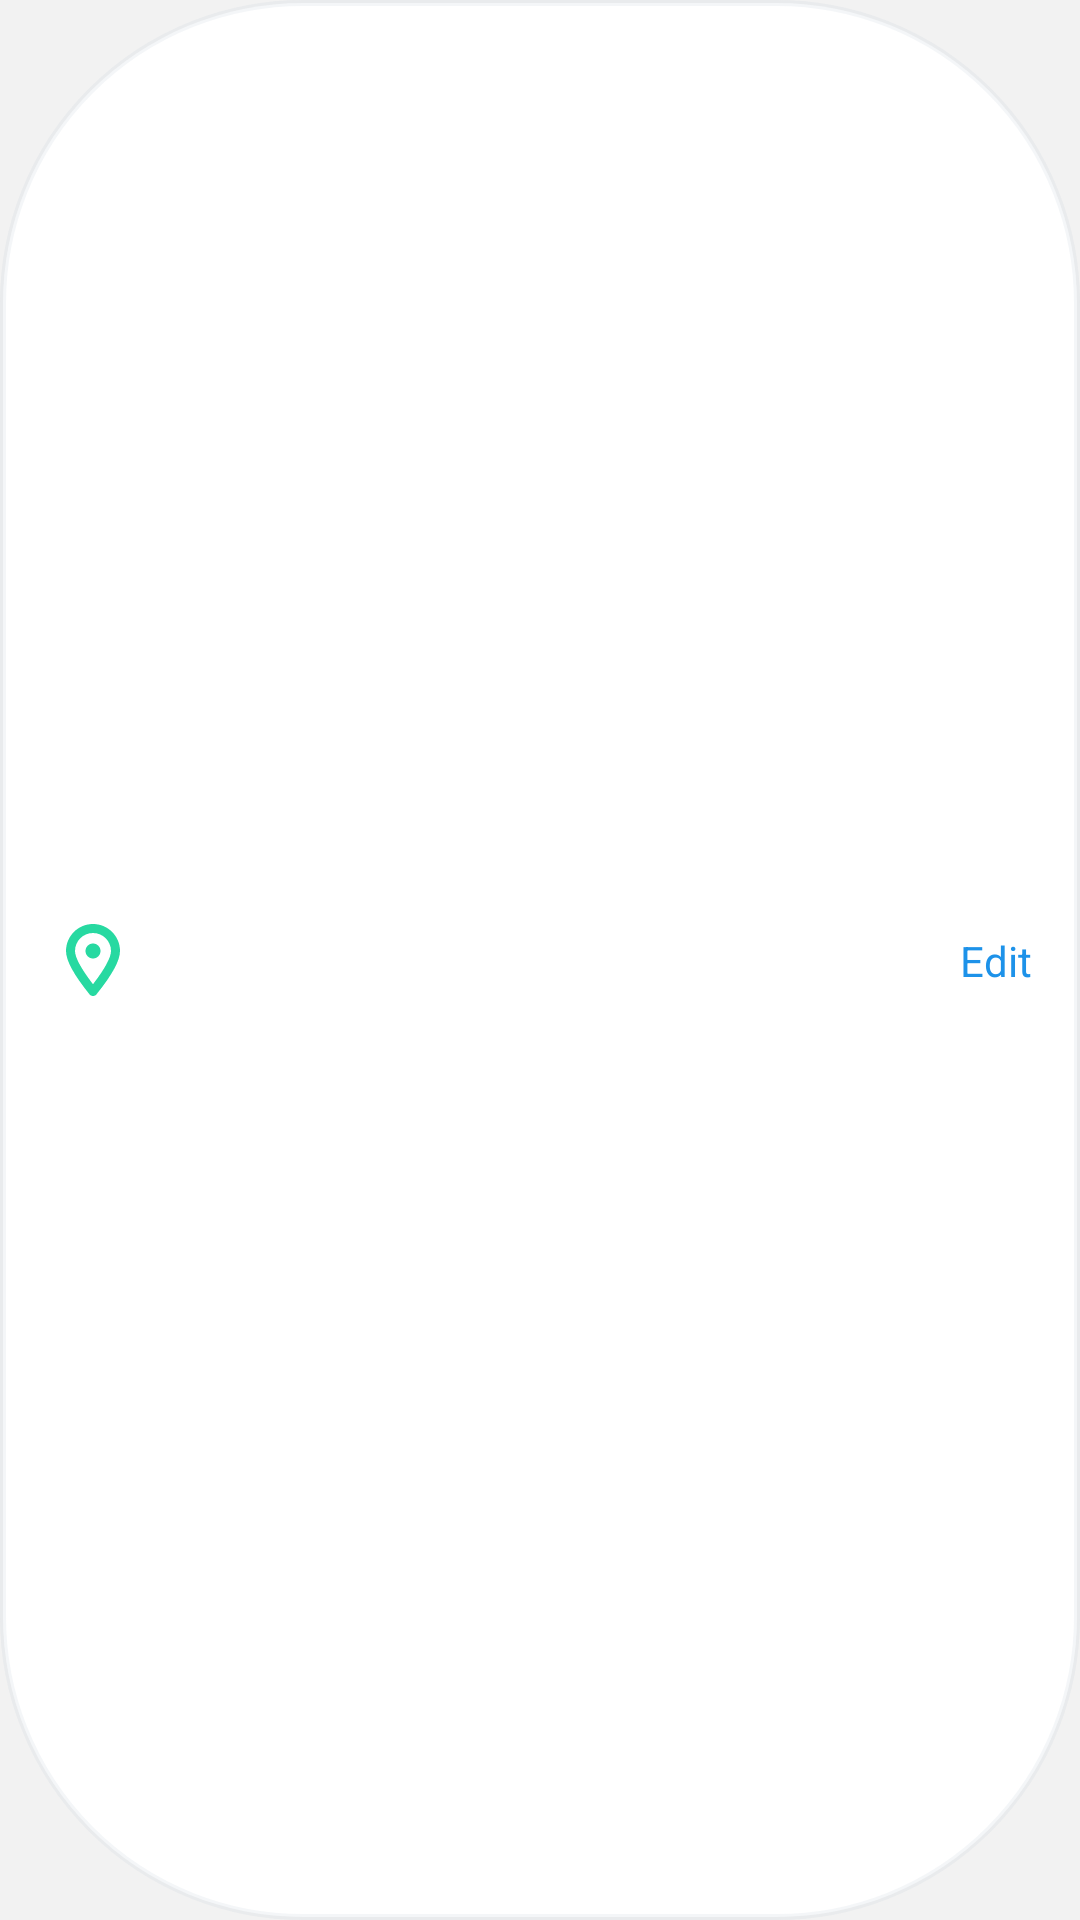

Locate icon controls on the screen. Image size 1080×1920, boxes as [left=x1, top=y1, right=x2, bottom=y2].
mapmarker: [left=66, top=924, right=120, bottom=996]
